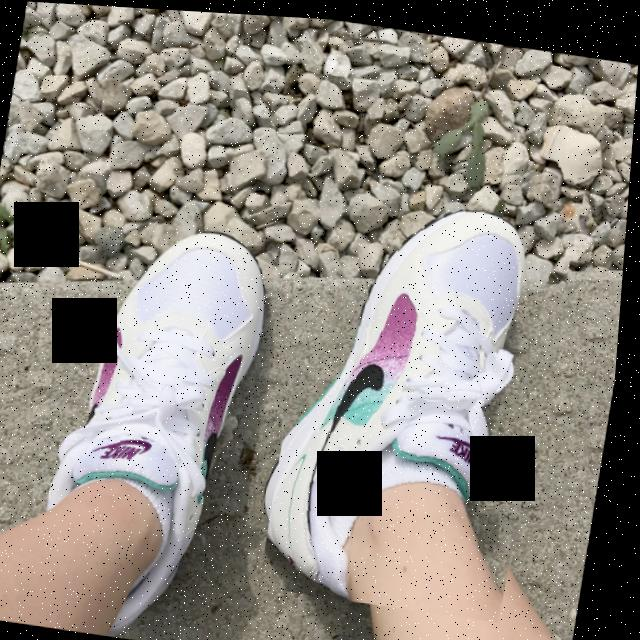shoe: (266, 134, 590, 620), (30, 153, 286, 640)
